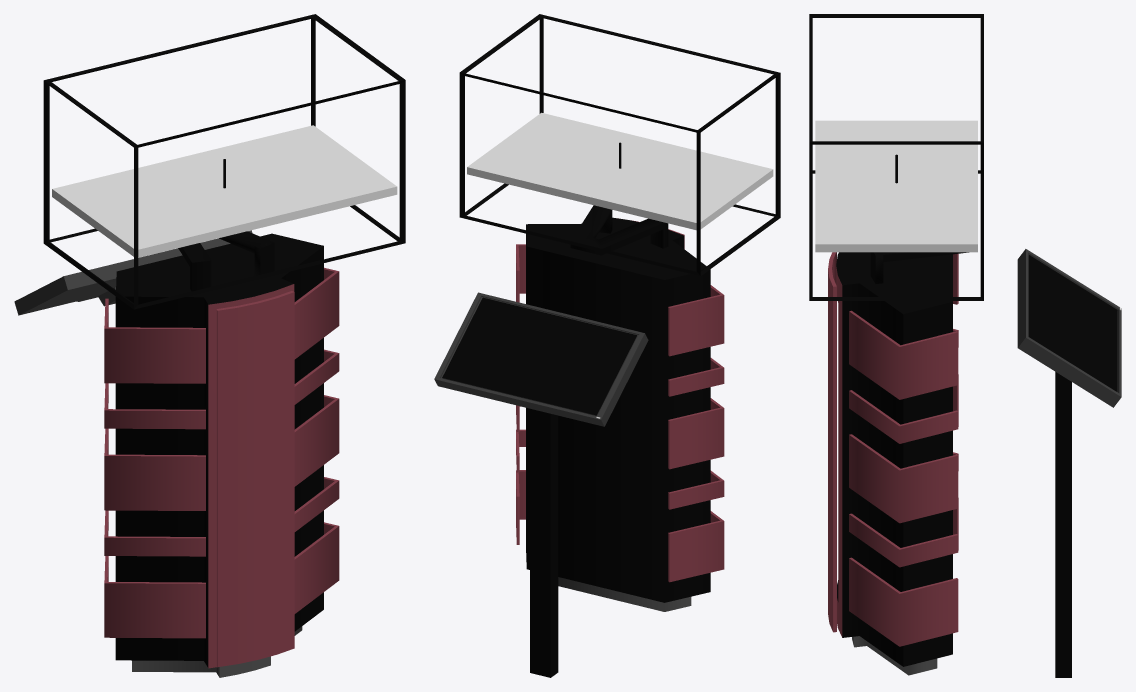
The model's file is boxind.glb.
The picture shows the model from 3 angles, left to right: view 1: azimuth 30°, elevation 25°; view 2: azimuth 150°, elevation 25°; view 3: azimuth 270°, elevation 25°; orthographic projection. The views are drawn at different scales.
Visible parts, largest first — view 1: Lectern_3_9, Lectern_3_10, Lectern_3_1, Cube.001, Cube, Lectern_3_11, Cube.003, Lectern_3_7, Lectern_3_8; view 2: Lectern_3_1, Cube.001, Cube.003, Lectern_3_9, Cube.002, Cube, Lectern_3_7, Lectern_3_8; view 3: Lectern_3_9, Lectern_3_1, Cube.001, Cube.003, Cube.002, Cube, Lectern_3_10, Lectern_3_11, Lectern_3_7, Lectern_3_8.
Part boxes in pixels (x1,y1,x2,y2): Lectern_3_9: (104,267,339,638); Lectern_3_10: (216,291,294,667); Lectern_3_1: (115,233,323,667); Cube.001: (52,125,397,257); Cube: (43,14,405,309); Lectern_3_11: (208,284,294,668); Cube.003: (14,230,252,315); Lectern_3_7: (178,231,274,291); Lectern_3_8: (132,626,302,677); Lectern_3_1: (526,217,710,602); Cube.001: (467,112,773,230); Cube.003: (434,292,648,426); Lectern_3_9: (516,244,724,582); Cube.002: (530,408,558,677); Cube: (459,14,780,276); Lectern_3_7: (570,205,668,255); Lectern_3_8: (558,577,691,611); Lectern_3_9: (849,253,958,646); Lectern_3_1: (836,252,952,666); Cube.001: (815,120,977,252); Cube.003: (1017,249,1121,407); Cube.002: (1055,372,1071,677); Cube: (809,14,983,300); Lectern_3_10: (828,252,836,632); Lectern_3_11: (836,267,842,637); Lectern_3_7: (870,252,968,283); Lectern_3_8: (852,636,937,675).
Size of the model in its own units: 0.8121 by 1.75 by 0.8333.
